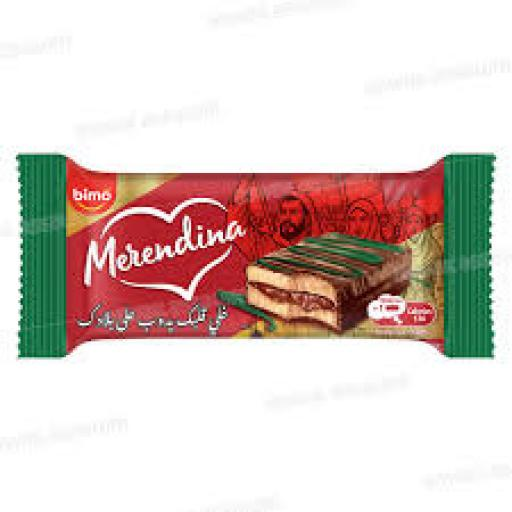merendina: (10, 133, 498, 382)
